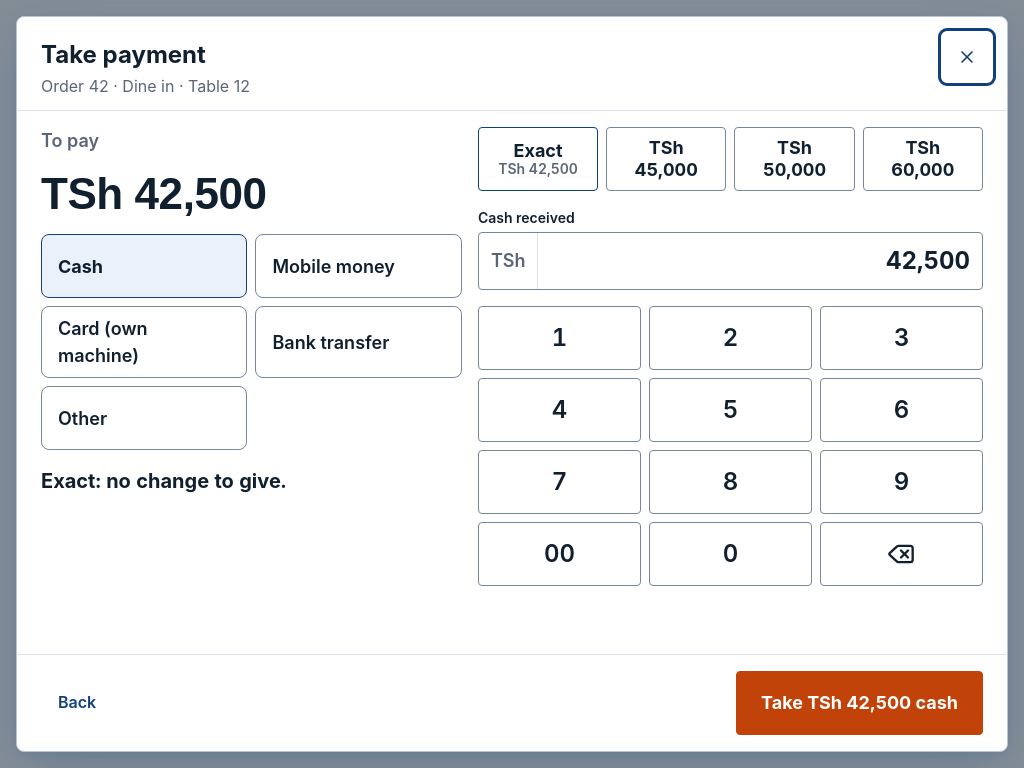
Test case: PaySheet › cash: the keypad types the cash received
Click the button "5" at (730, 410), box 649,378 -> 812,442
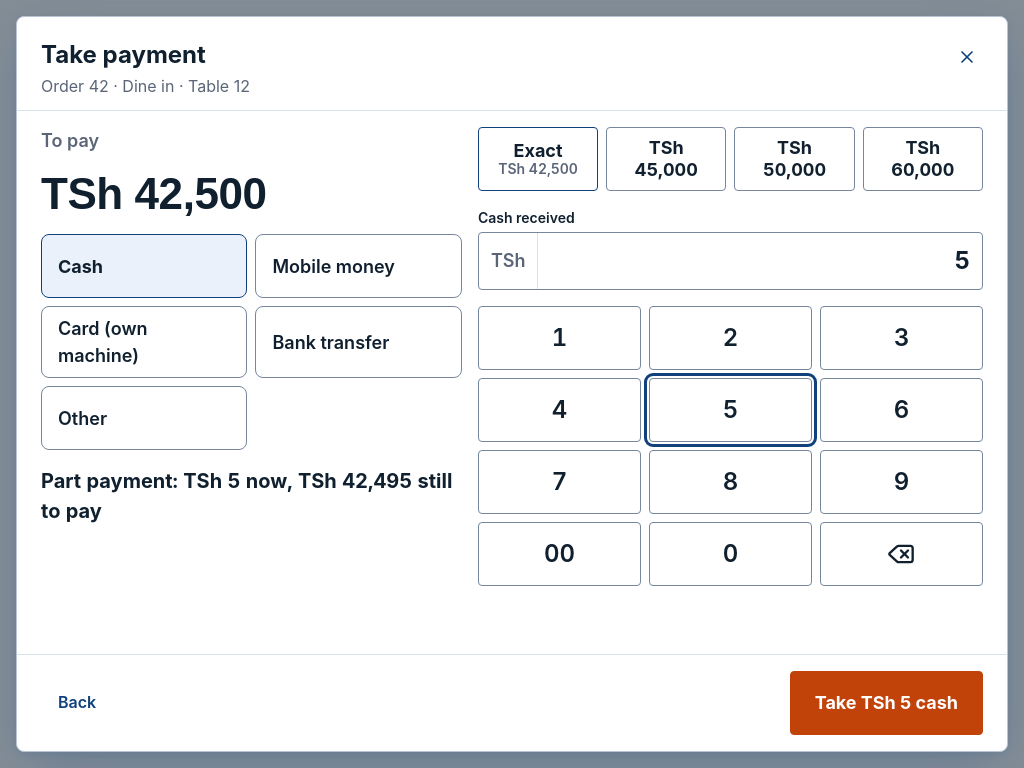
Click the button "0" at (730, 554), box 649,522 -> 812,586
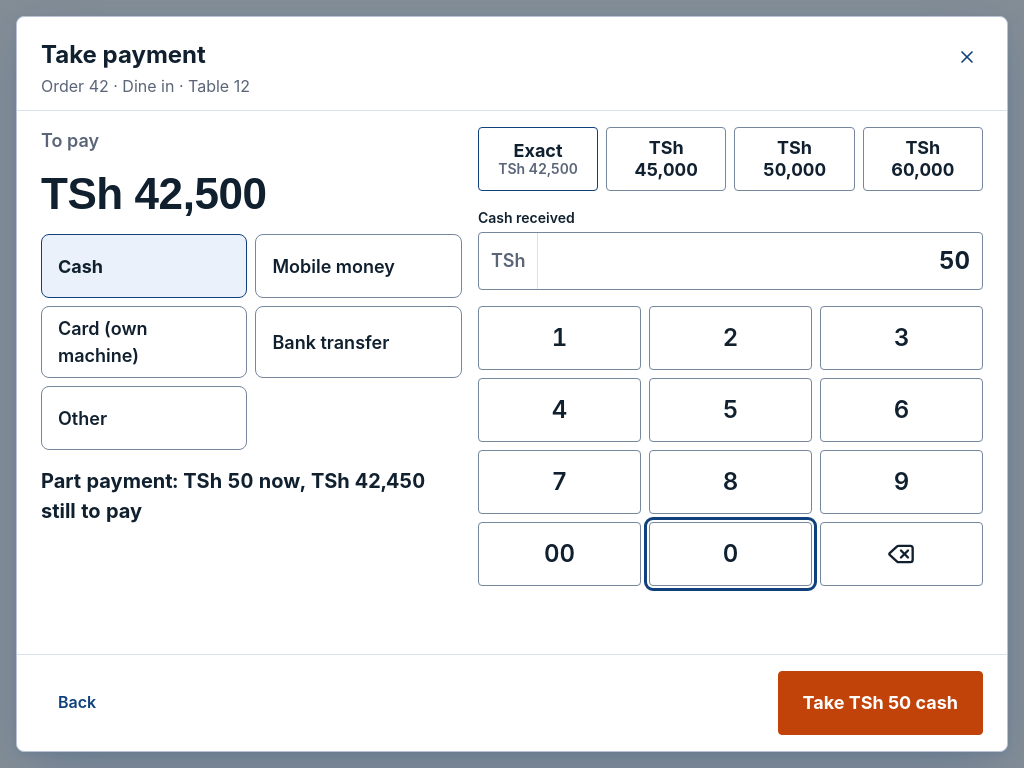
Click the button "0" at (730, 554), box 649,522 -> 812,586
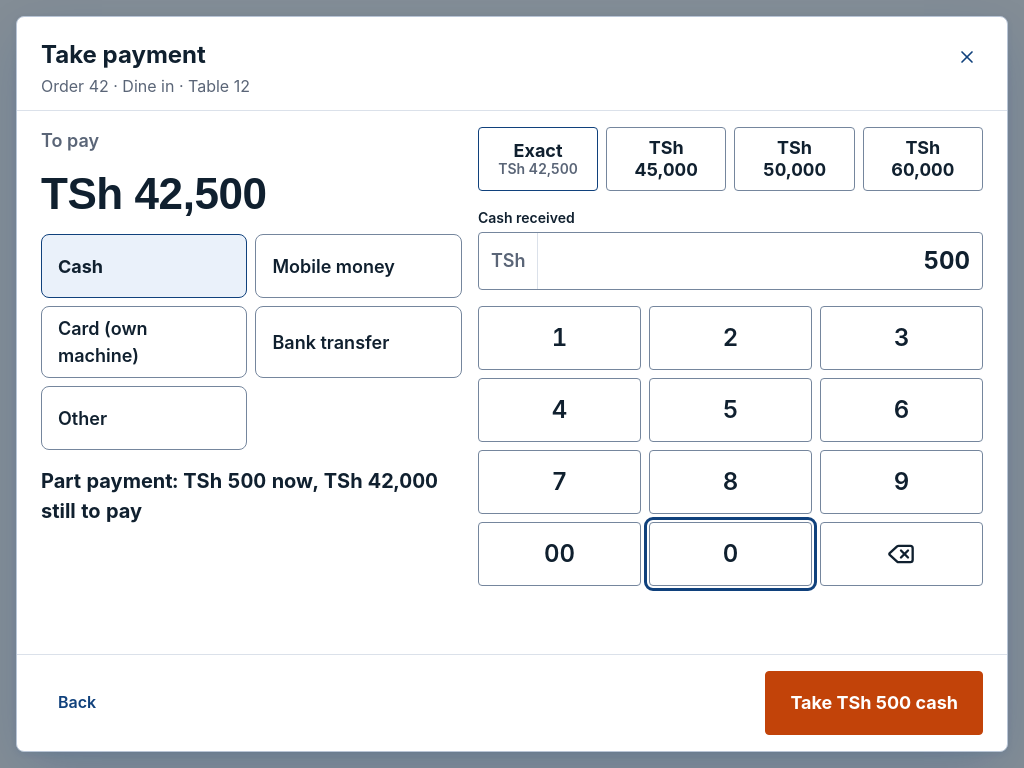
Click the button "00" at (559, 554), box 478,522 -> 641,586
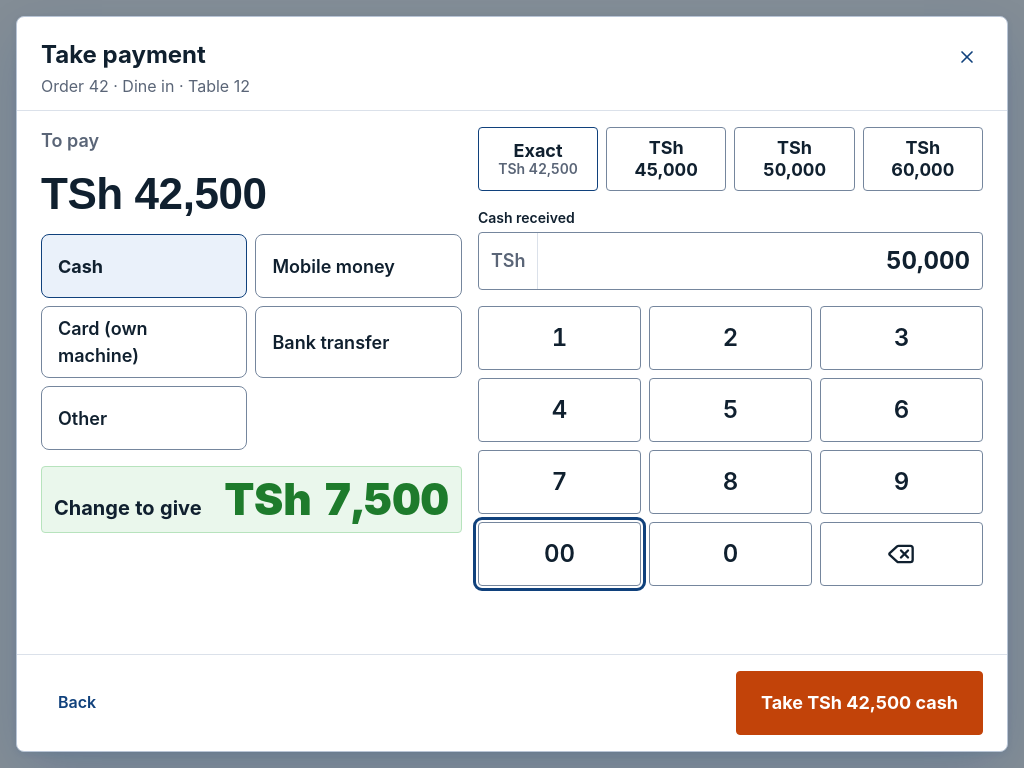
Result: the field with test id "amount-received" holds "50,000" at 538,233 -> 982,289
Click the button with test id "cash-key-delete" at (902, 554), box 820,522 -> 983,586
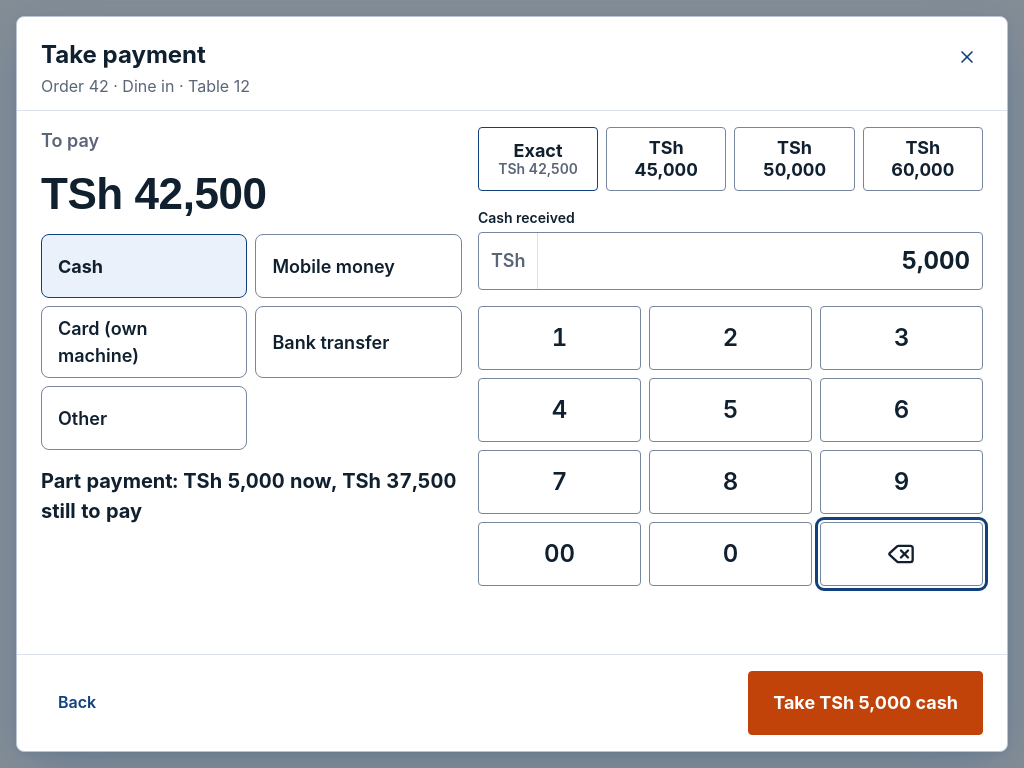
Result: the field with test id "amount-received" holds "5,000" at 538,233 -> 982,289
